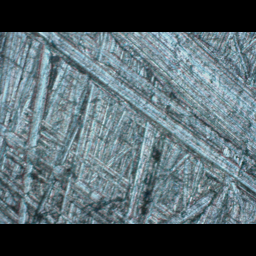d: (37, 32, 256, 176), (4, 105, 168, 223)
